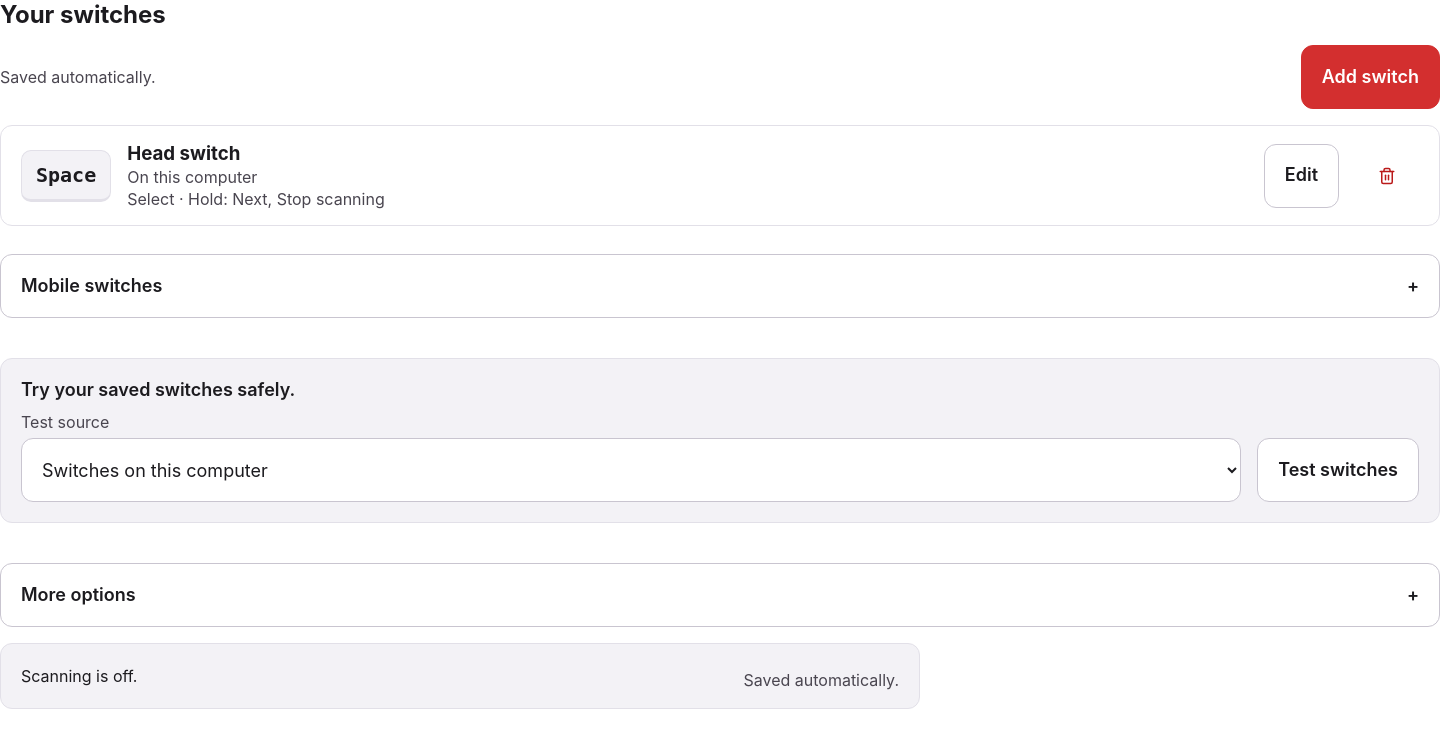
Scenario: cancels learning when the panel unmounts and retains pending edits
Expected: the heading "Head switch" is shown, [127, 142, 240, 165]
Click the button with aria-label "Edit Head switch". click: (1301, 176)
box: [1264, 144, 1339, 208]
(page scrolled)
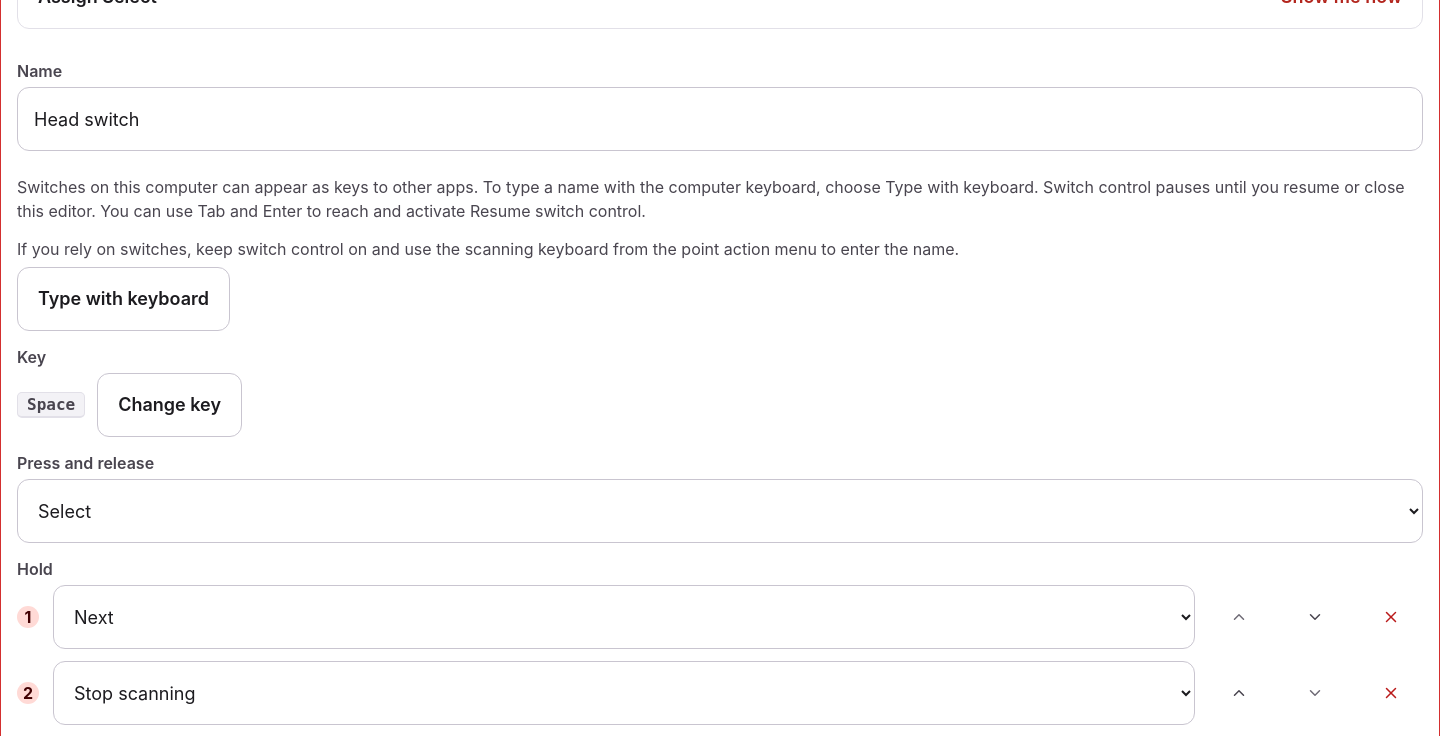
Click the button with aria-label "Learn another key for Head switch". click: (170, 405)
box: [97, 373, 242, 437]
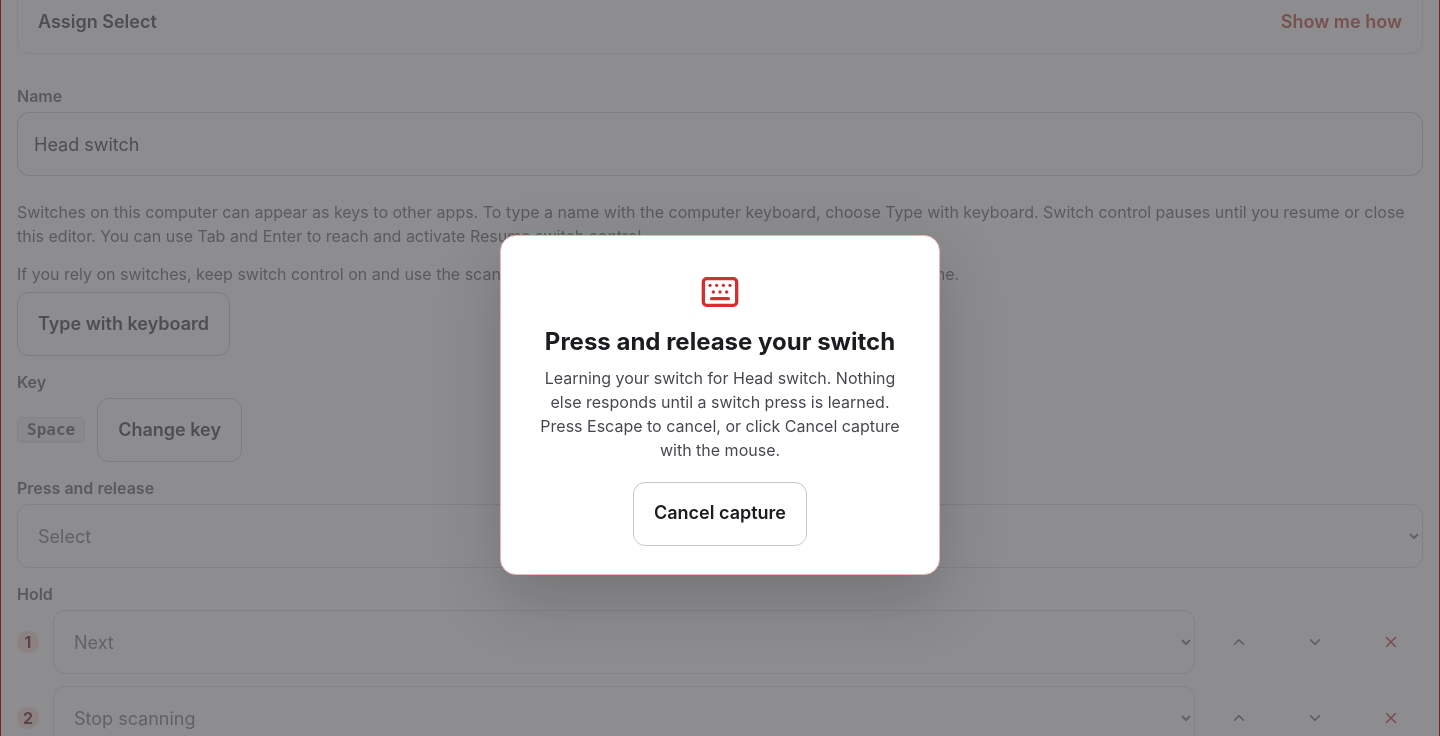
Result: the button "Cancel capture" is shown at [633, 482, 807, 546]
